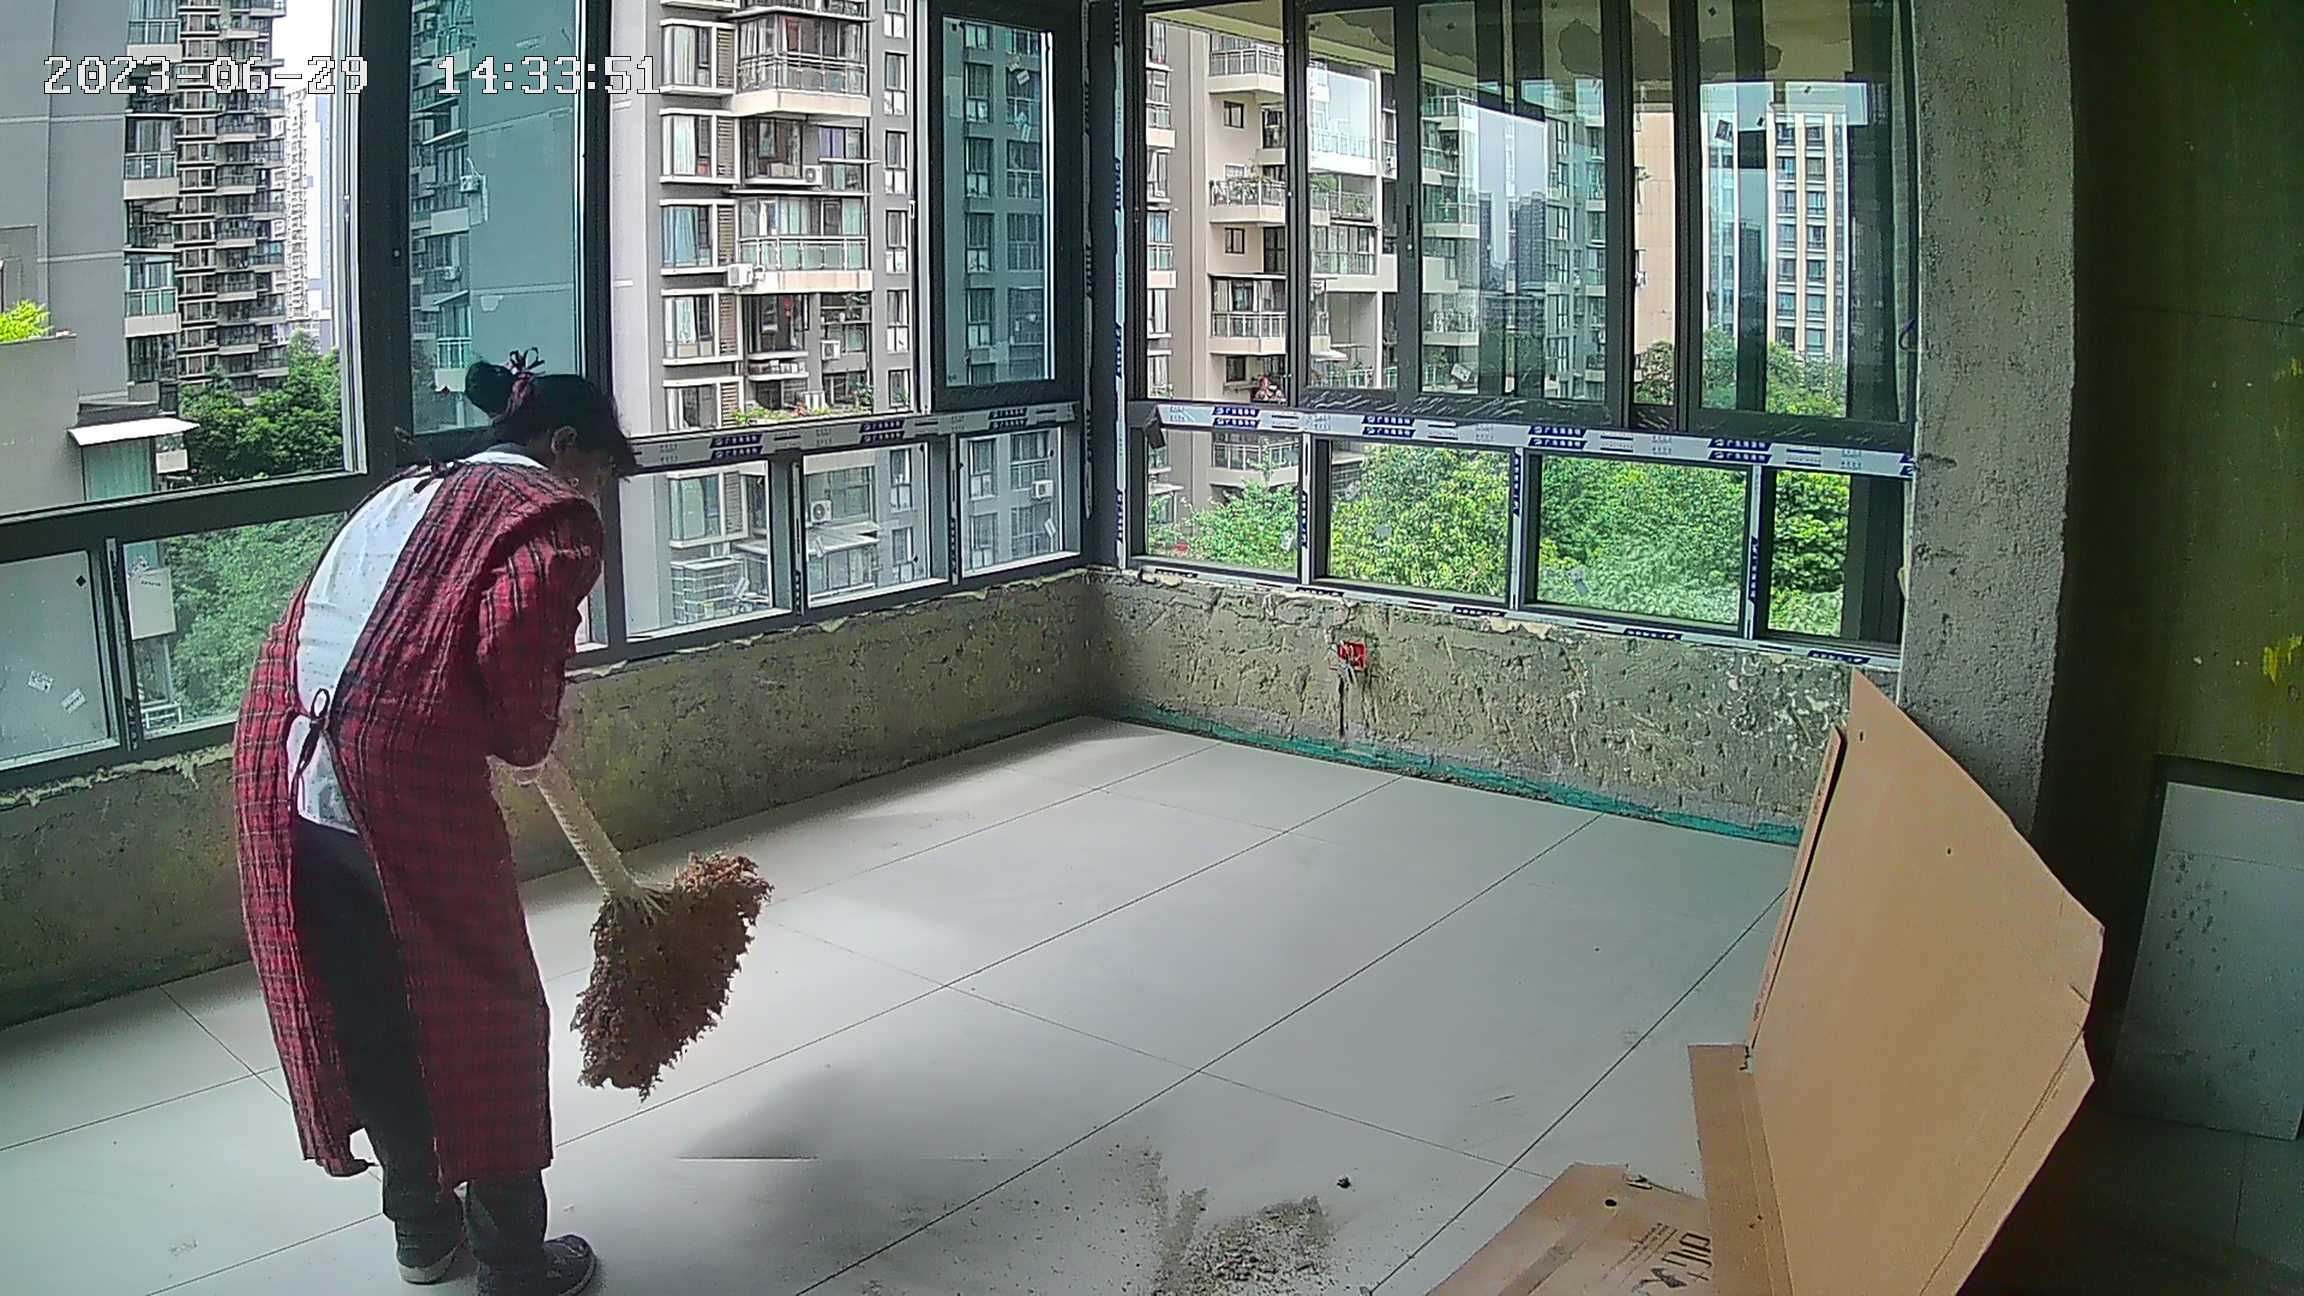people: (231, 366, 627, 1296)
window: (6, 1, 1094, 785), (1106, 1, 1914, 672)
